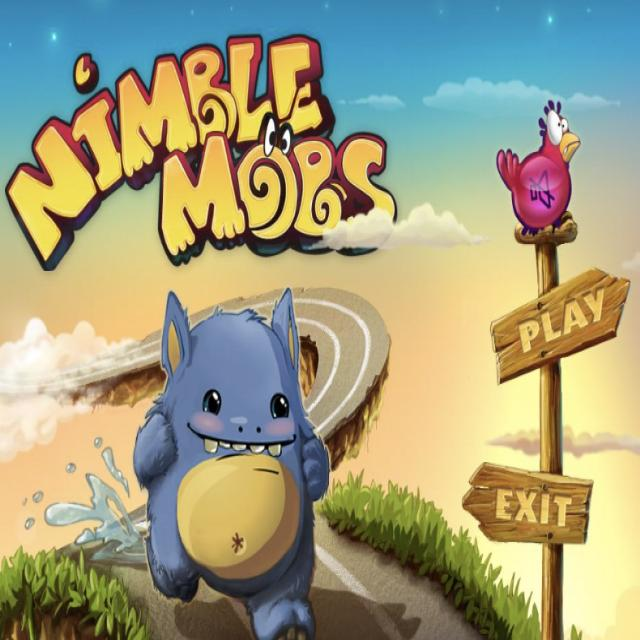Start-button: (495, 272, 626, 381)
